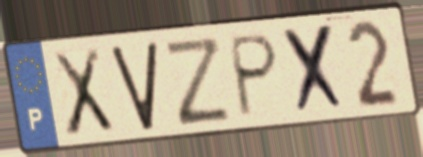2: (344, 16, 406, 112)
P: (228, 31, 282, 121)
V: (108, 37, 160, 134)
X: (280, 20, 350, 118), (49, 44, 117, 141)
Z: (161, 33, 234, 130)
